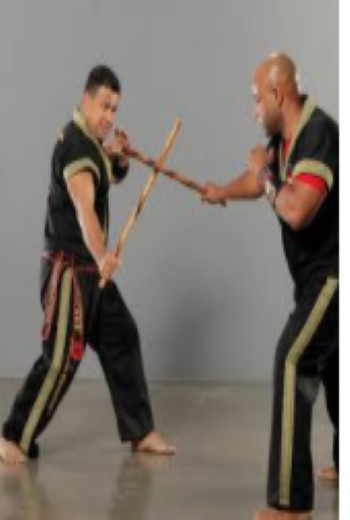baston_e: (102, 176, 161, 258), (133, 144, 198, 195)
baston_v: (213, 194, 230, 212), (93, 274, 109, 293), (170, 114, 184, 131)
